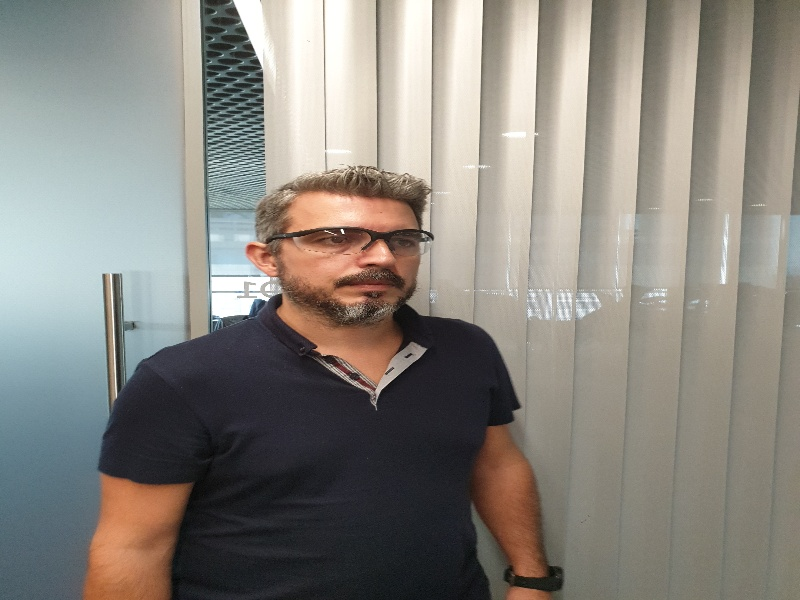Gozluk: (266, 225, 433, 256)
